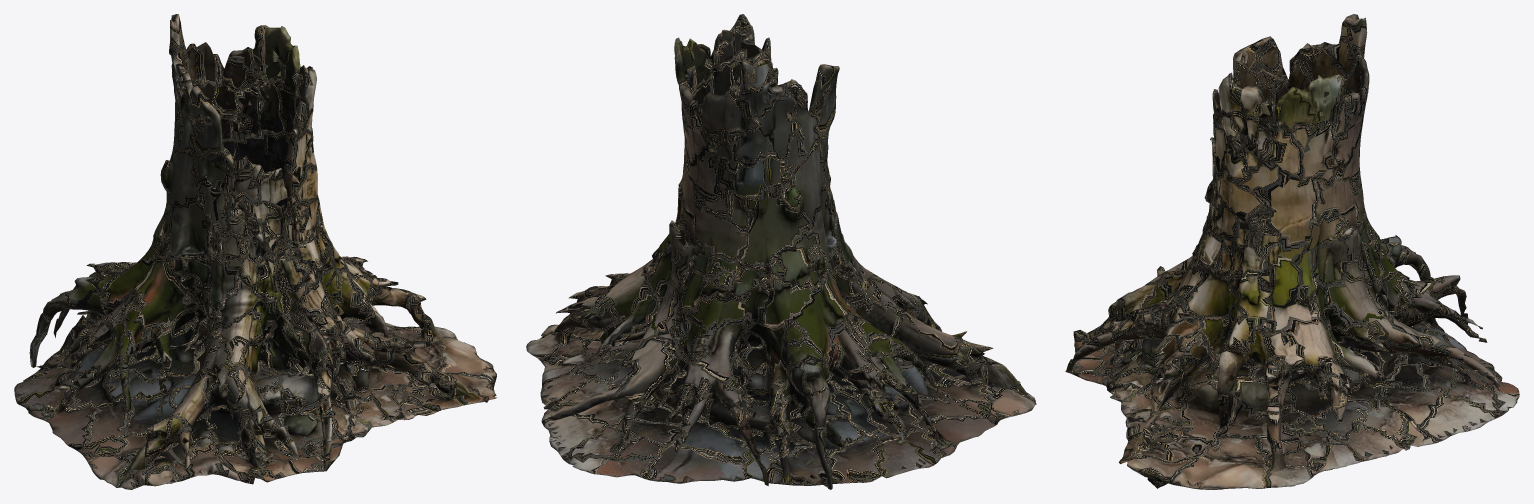
The picture shows the model from 3 angles, left to right: view 1: azimuth 30°, elevation 25°; view 2: azimuth 150°, elevation 25°; view 3: azimuth 270°, elevation 25°; orthographic projection. The views are drawn at different scales.
Bounding box in the file's own units: 1.9 × 1.61 × 1.8.
1 material, 1 textured.
